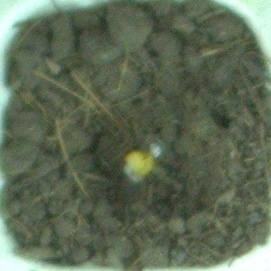pepper seed: (46, 61, 203, 239)
